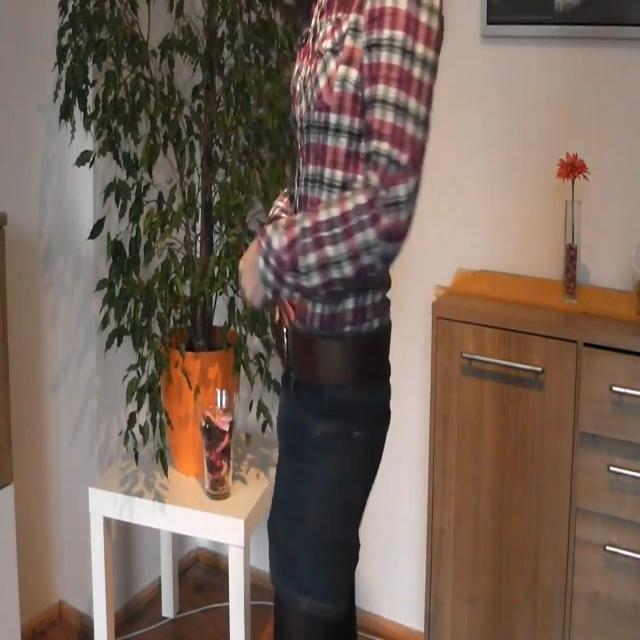Shirt: (257, 0, 445, 334)
